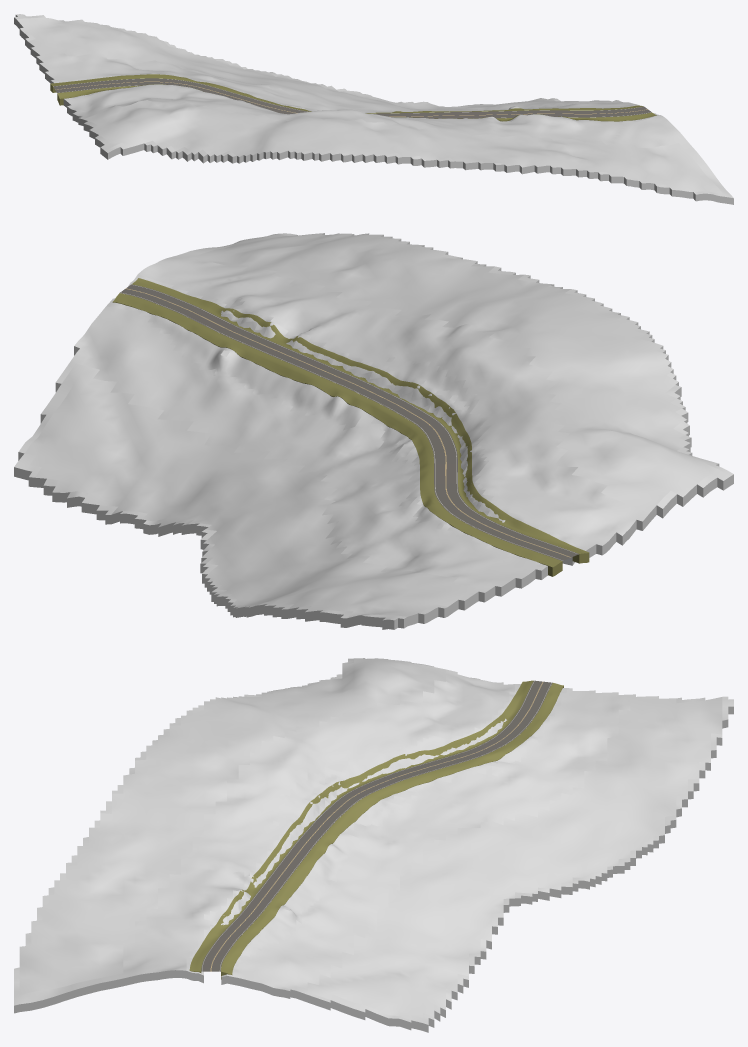
Rendered from conz_159.glb.
3 views of the same model, one above another, from view 1: azimuth 30°, elevation 25°; view 2: azimuth 150°, elevation 25°; view 3: azimuth 270°, elevation 25° (orthographic). The views are drawn at different scales.
Parts seen in each view (by area): view 1: terrain159, road159, verge159R, verge159L, paint_yellow159; view 2: terrain159, road159, verge159R, verge159L, paint_white159, paint_yellow159; view 3: terrain159, road159, verge159R, verge159L, paint_white159.
Part boxes in pixels (bbox=[...]): terrain159: bbox=[14, 14, 733, 204]; road159: bbox=[53, 78, 651, 118]; verge159R: bbox=[50, 74, 643, 113]; verge159L: bbox=[57, 83, 656, 121]; paint_yellow159: bbox=[55, 81, 647, 116]; terrain159: bbox=[14, 233, 733, 629]; road159: bbox=[120, 284, 578, 560]; verge159R: bbox=[112, 293, 562, 576]; verge159L: bbox=[132, 278, 589, 563]; paint_white159: bbox=[121, 284, 578, 560]; paint_yellow159: bbox=[125, 288, 570, 557]; terrain159: bbox=[14, 658, 733, 1032]; road159: bbox=[201, 680, 552, 971]; verge159R: bbox=[221, 683, 563, 979]; verge159L: bbox=[189, 680, 533, 972]; paint_white159: bbox=[202, 681, 551, 971].
Bounding box in the file's own units: 228 × 51.01 × 250.
